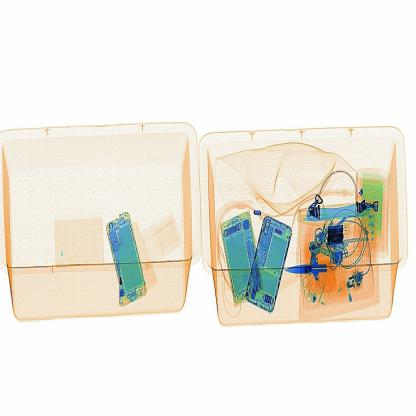gun: (282, 245, 340, 292)
